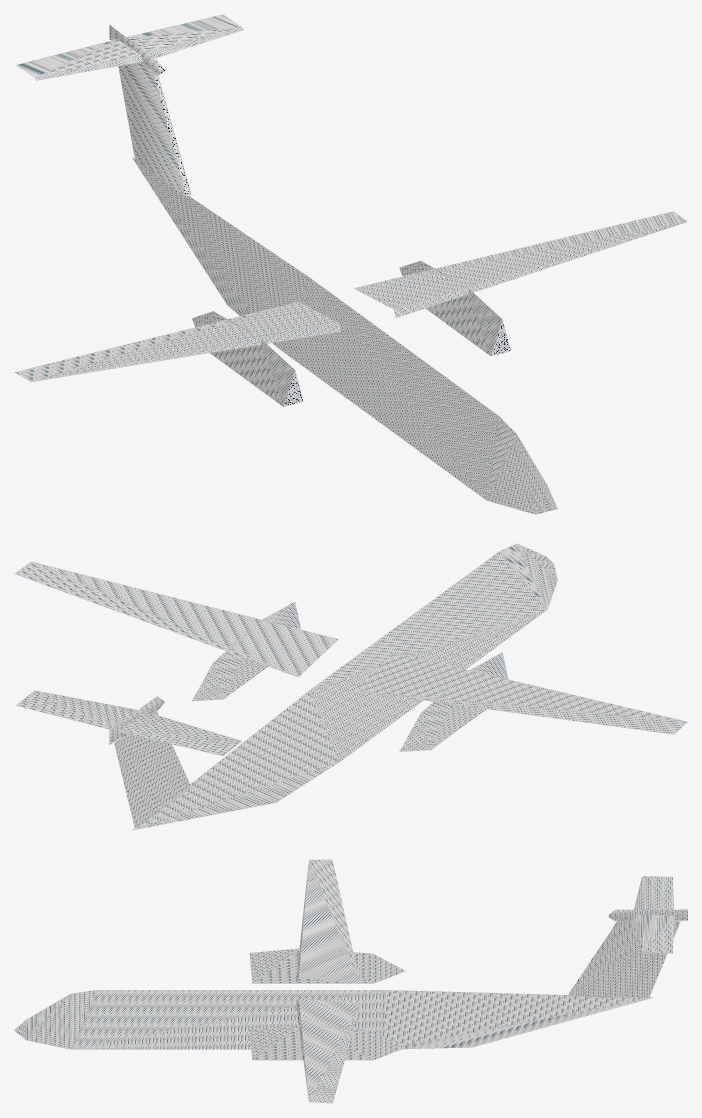
Rendered from tfs_dash8_q400_msfs_LOD1.gltf.
The picture shows the model from 3 angles, top to bottom: view 1: azimuth 30°, elevation 25°; view 2: azimuth 150°, elevation 25°; view 3: azimuth 270°, elevation 25°; orthographic projection. The views are drawn at different scales.
Visible parts, largest first — view 1: node1; view 2: node1; view 3: node1.
Part boxes in pixels (x1,y1,x2,y2): node1: (14,14,687,514); node1: (14,543,687,830); node1: (14,859,687,1103).
Bounding box in the file's own units: 28.25 × 6.97 × 33.
